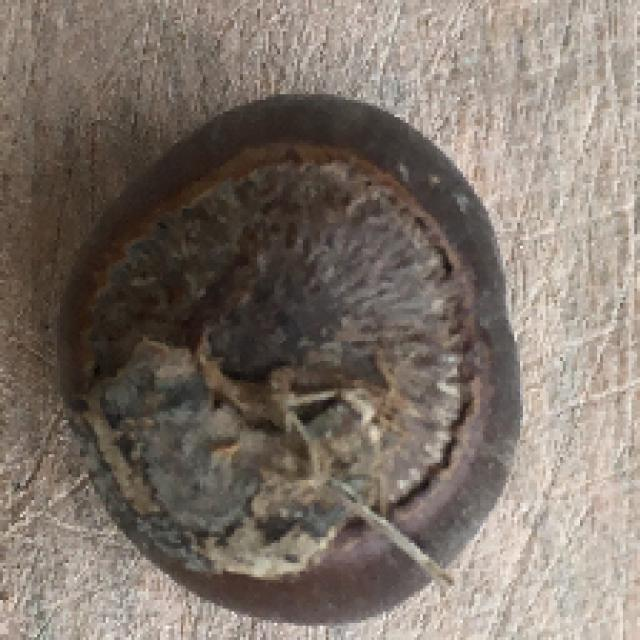damagedHazelnut: (53, 88, 519, 622)
